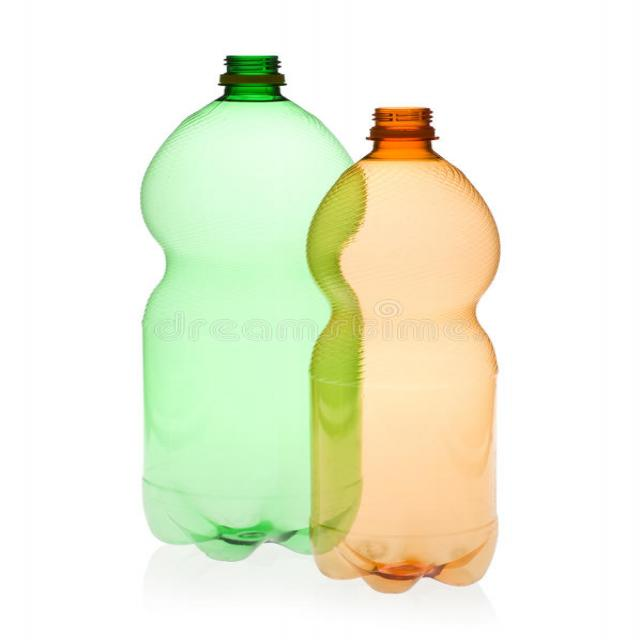Botella Plastica: (129, 54, 369, 562), (310, 103, 503, 596)
